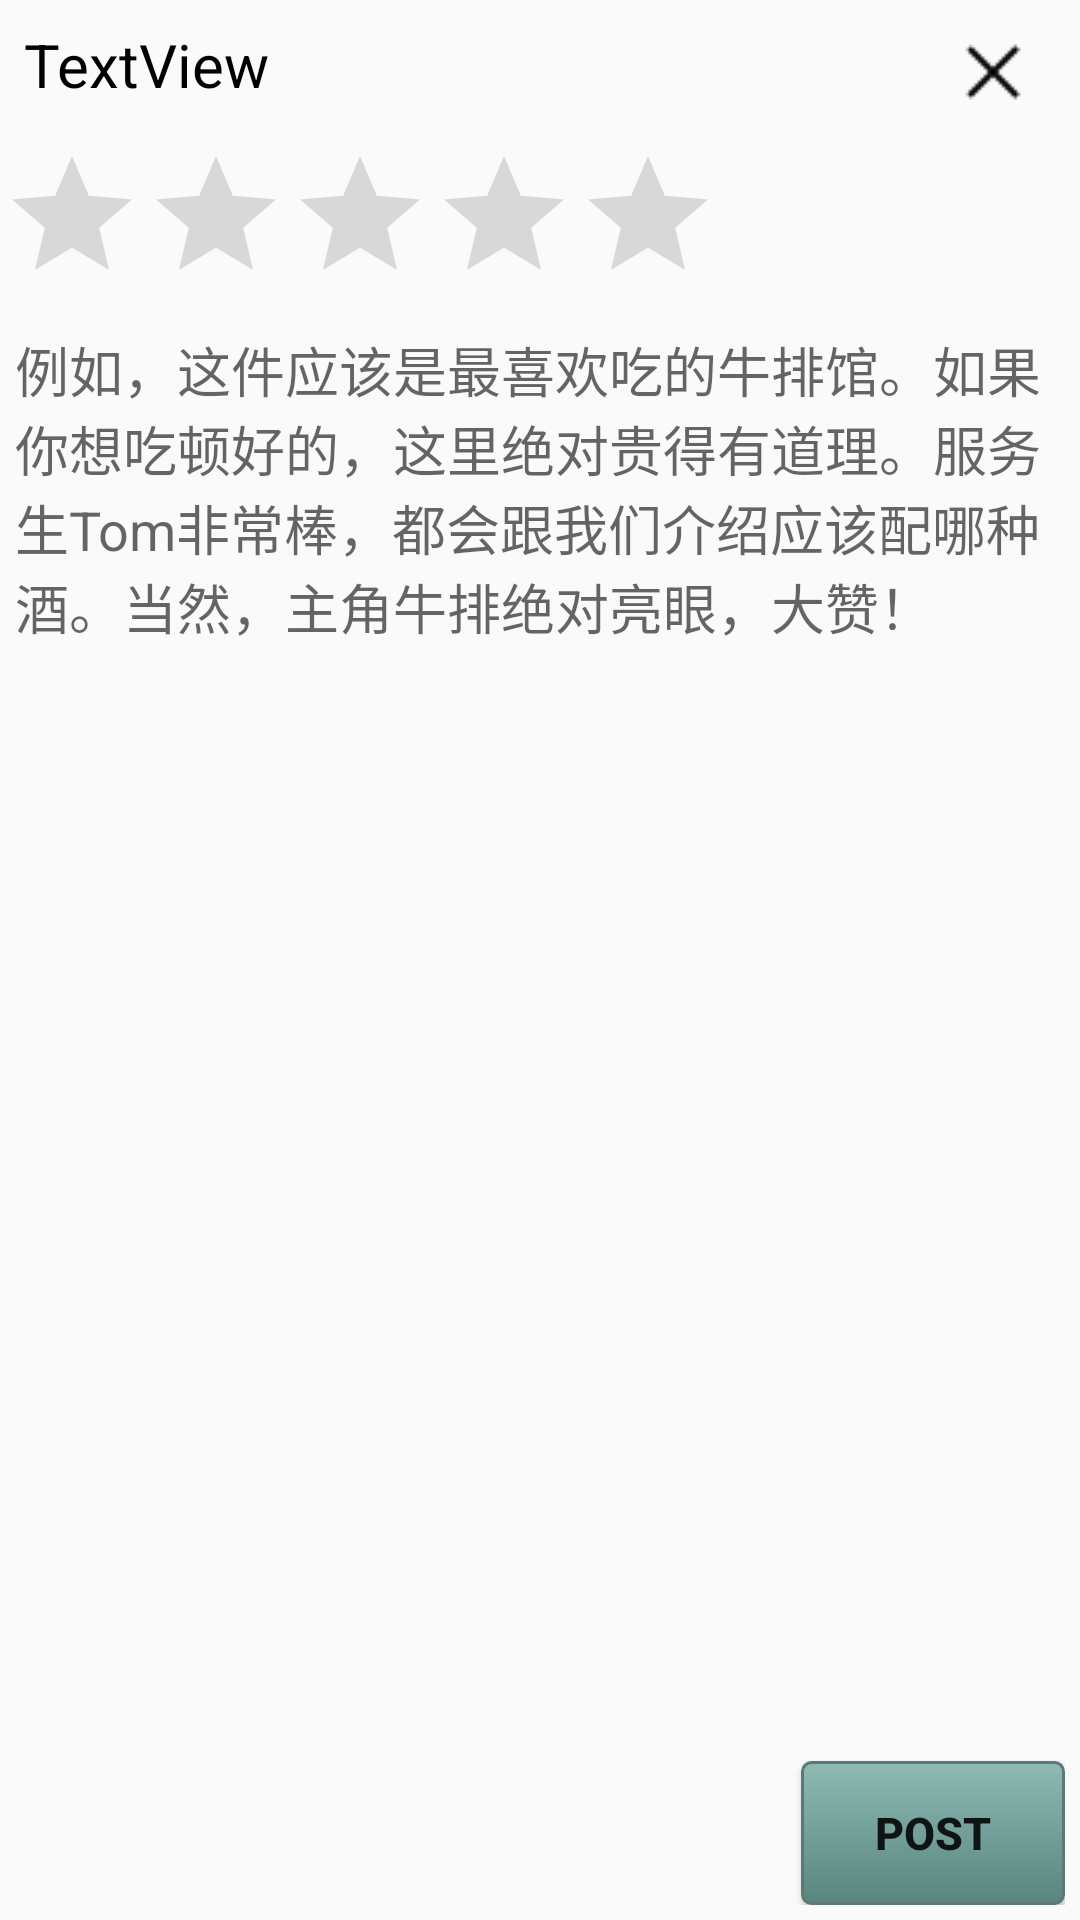

Icons on this 1080px x 1920px Android screen, each with its box as [left=x1, top=y1, right=x2, bottom=y2]:
close: [left=965, top=44, right=1021, bottom=100]
